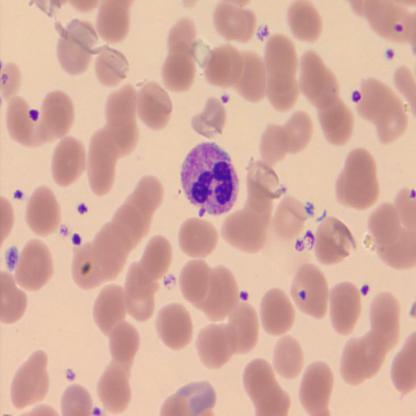Segmented neutrophil: (178, 139, 240, 217)
